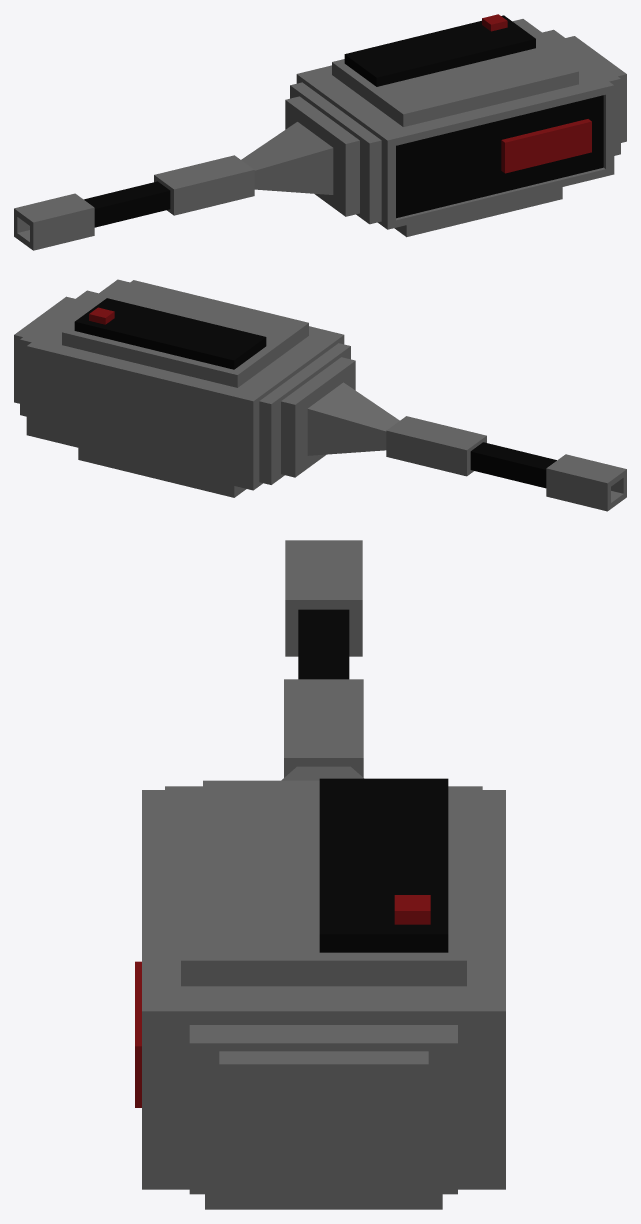
Rendered from size-5.glb.
The picture shows the model from 3 angles, top to bottom: view 1: azimuth 30°, elevation 25°; view 2: azimuth 150°, elevation 25°; view 3: azimuth 270°, elevation 25°; orthographic projection. The views are drawn at different scales.
Parts seen in each view (by area): view 1: Cube.002; view 2: Cube.002; view 3: Cube.002.
Part boxes in pixels (left/top/right/bottom): Cube.002: left=14, top=14, right=626, bottom=250; Cube.002: left=14, top=279, right=626, bottom=511; Cube.002: left=135, top=540, right=505, bottom=1209.
Size of the model in its own units: 3.7 by 0.8909 by 1.03.
